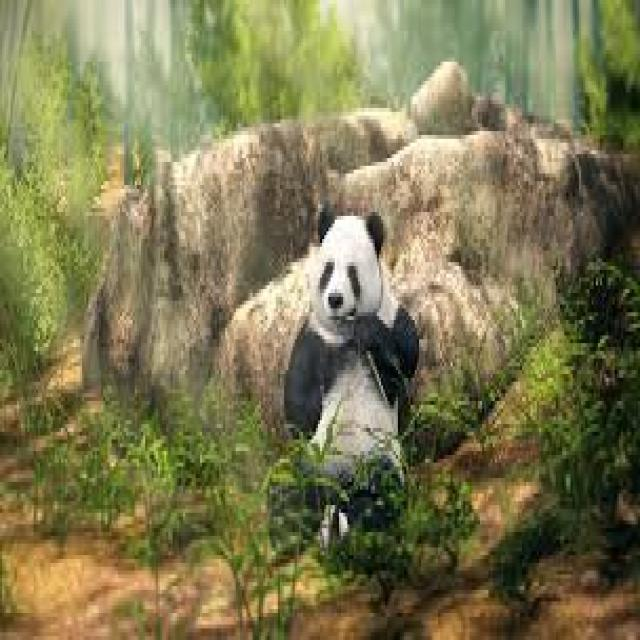Panda: (276, 188, 423, 538)
